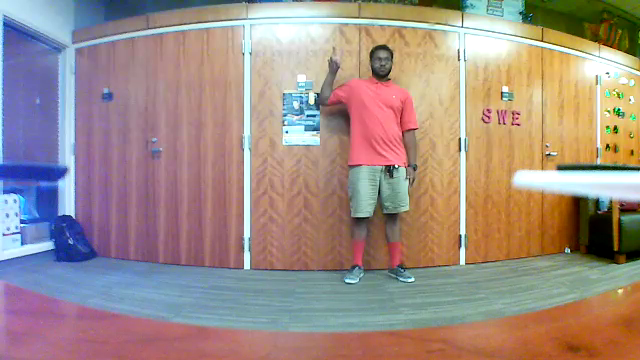peace: (325, 43, 349, 76)
